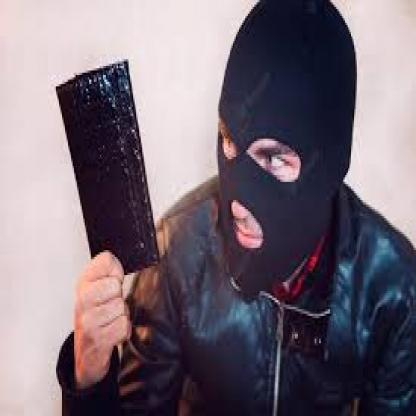criminal: (56, 0, 416, 416)
